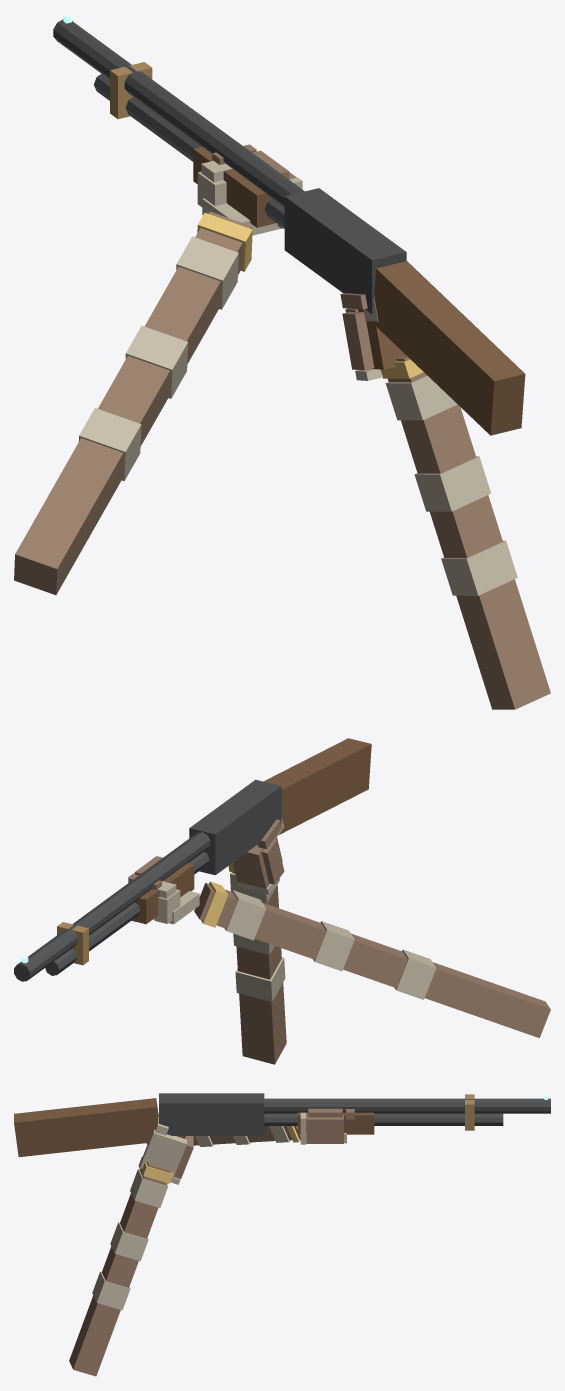
Rendered from shotgun.glb.
3 views of the same model, one above another, from view 1: azimuth 30°, elevation 25°; view 2: azimuth 150°, elevation 25°; view 3: azimuth 270°, elevation 25° (orthographic). The views are drawn at different scales.
Visible parts, largest first — view 1: SL_Forearm, SR_Forearm, S_Stock, S_Receiver, S_Barrel, SR_Wrap1, SR_Wrap2, SL_Wrap1, SL_Wrap0, SL_Wrap2, S_Tube, SR_Wrap0 (+5 smaller); view 2: SL_Forearm, S_Stock, S_Receiver, S_Barrel, SR_Forearm, S_Tube, SL_Wrap0, SL_Wrap2, SL_Wrap1, S_Pump, SR_Wrap2, SR_Fingers (+7 smaller); view 3: S_Stock, S_Receiver, SR_Forearm, S_Barrel, S_Tube, SR_Palm, SL_Fingers, SR_Wrap2, SR_Wrap0, SR_Wrap1, S_Pump, SL_Forearm (+3 smaller).
Boxes of the visible parts, box(x1,y1,x2,y2) form: SL_Forearm: box(14, 211, 251, 595); SR_Forearm: box(388, 355, 550, 709); S_Stock: box(372, 261, 525, 435); S_Receiver: box(284, 188, 406, 314); S_Barrel: box(53, 19, 304, 207); SR_Wrap1: box(414, 456, 490, 511); SR_Wrap2: box(441, 540, 517, 595); SL_Wrap1: box(125, 325, 188, 398); SL_Wrap0: box(176, 236, 238, 309); SL_Wrap2: box(78, 408, 141, 481); S_Tube: box(94, 74, 284, 228); SR_Wrap0: box(385, 375, 457, 420); SL_Forearm: box(194, 882, 550, 1037); S_Stock: box(263, 738, 371, 834); S_Receiver: box(189, 779, 281, 875); S_Barrel: box(14, 832, 210, 981); SR_Forearm: box(232, 872, 286, 1064); S_Tube: box(45, 852, 209, 975); SL_Wrap0: box(224, 890, 266, 940); SL_Wrap2: box(394, 949, 436, 999); SL_Wrap1: box(313, 921, 354, 971); S_Pump: box(131, 863, 194, 924); SR_Wrap2: box(235, 957, 285, 1001); SR_Fingers: box(232, 844, 269, 888); S_Stock: box(14, 1098, 158, 1157); S_Receiver: box(159, 1093, 264, 1135); SR_Forearm: box(69, 1162, 171, 1376); S_Barrel: box(264, 1098, 550, 1113); S_Tube: box(264, 1113, 503, 1125); SR_Palm: box(140, 1129, 186, 1178); SL_Fingers: box(306, 1115, 343, 1143); SR_Wrap2: box(92, 1271, 130, 1310); SR_Wrap0: box(130, 1169, 168, 1207); SR_Wrap1: box(110, 1222, 148, 1261); S_Pump: box(297, 1112, 374, 1134); SL_Forearm: box(146, 1114, 300, 1145).
Bounding box in the file's own units: 0.6742 × 0.5961 × 1.12.
